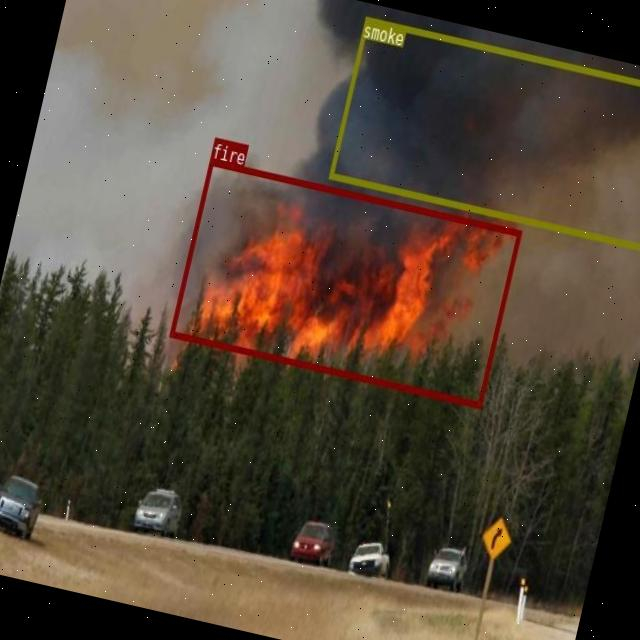fire: (169, 157, 521, 406)
smoke: (328, 15, 640, 250)
